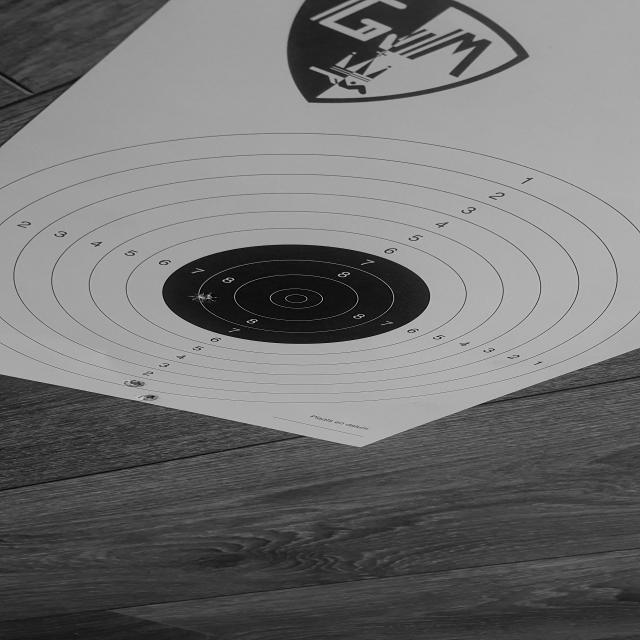0: (136, 393, 163, 402)
1: (121, 379, 148, 388)
8: (190, 290, 218, 304)
Target: (0, 132, 640, 404)
black_contour: (162, 244, 430, 344)
